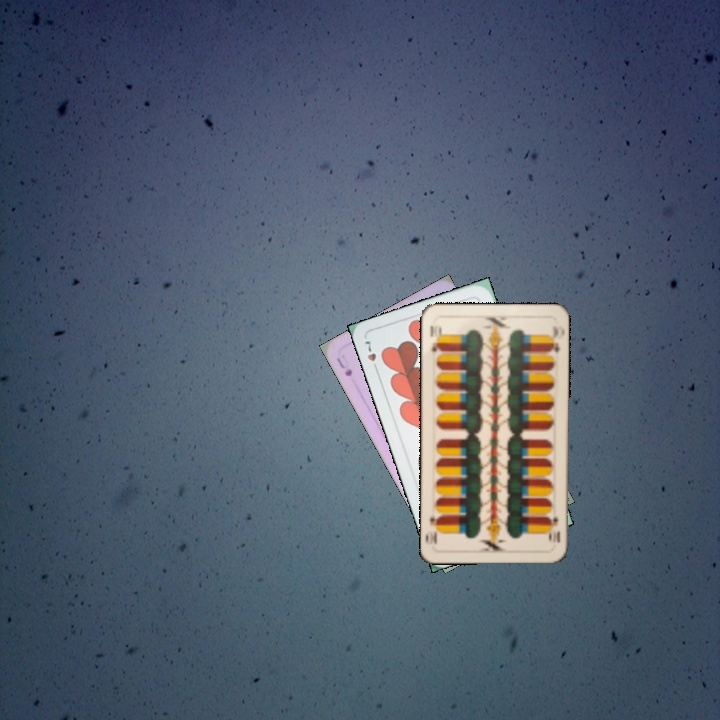E10: (544, 512, 563, 545), (426, 322, 444, 354)
H7: (361, 336, 381, 375)
SU: (332, 353, 355, 379)
